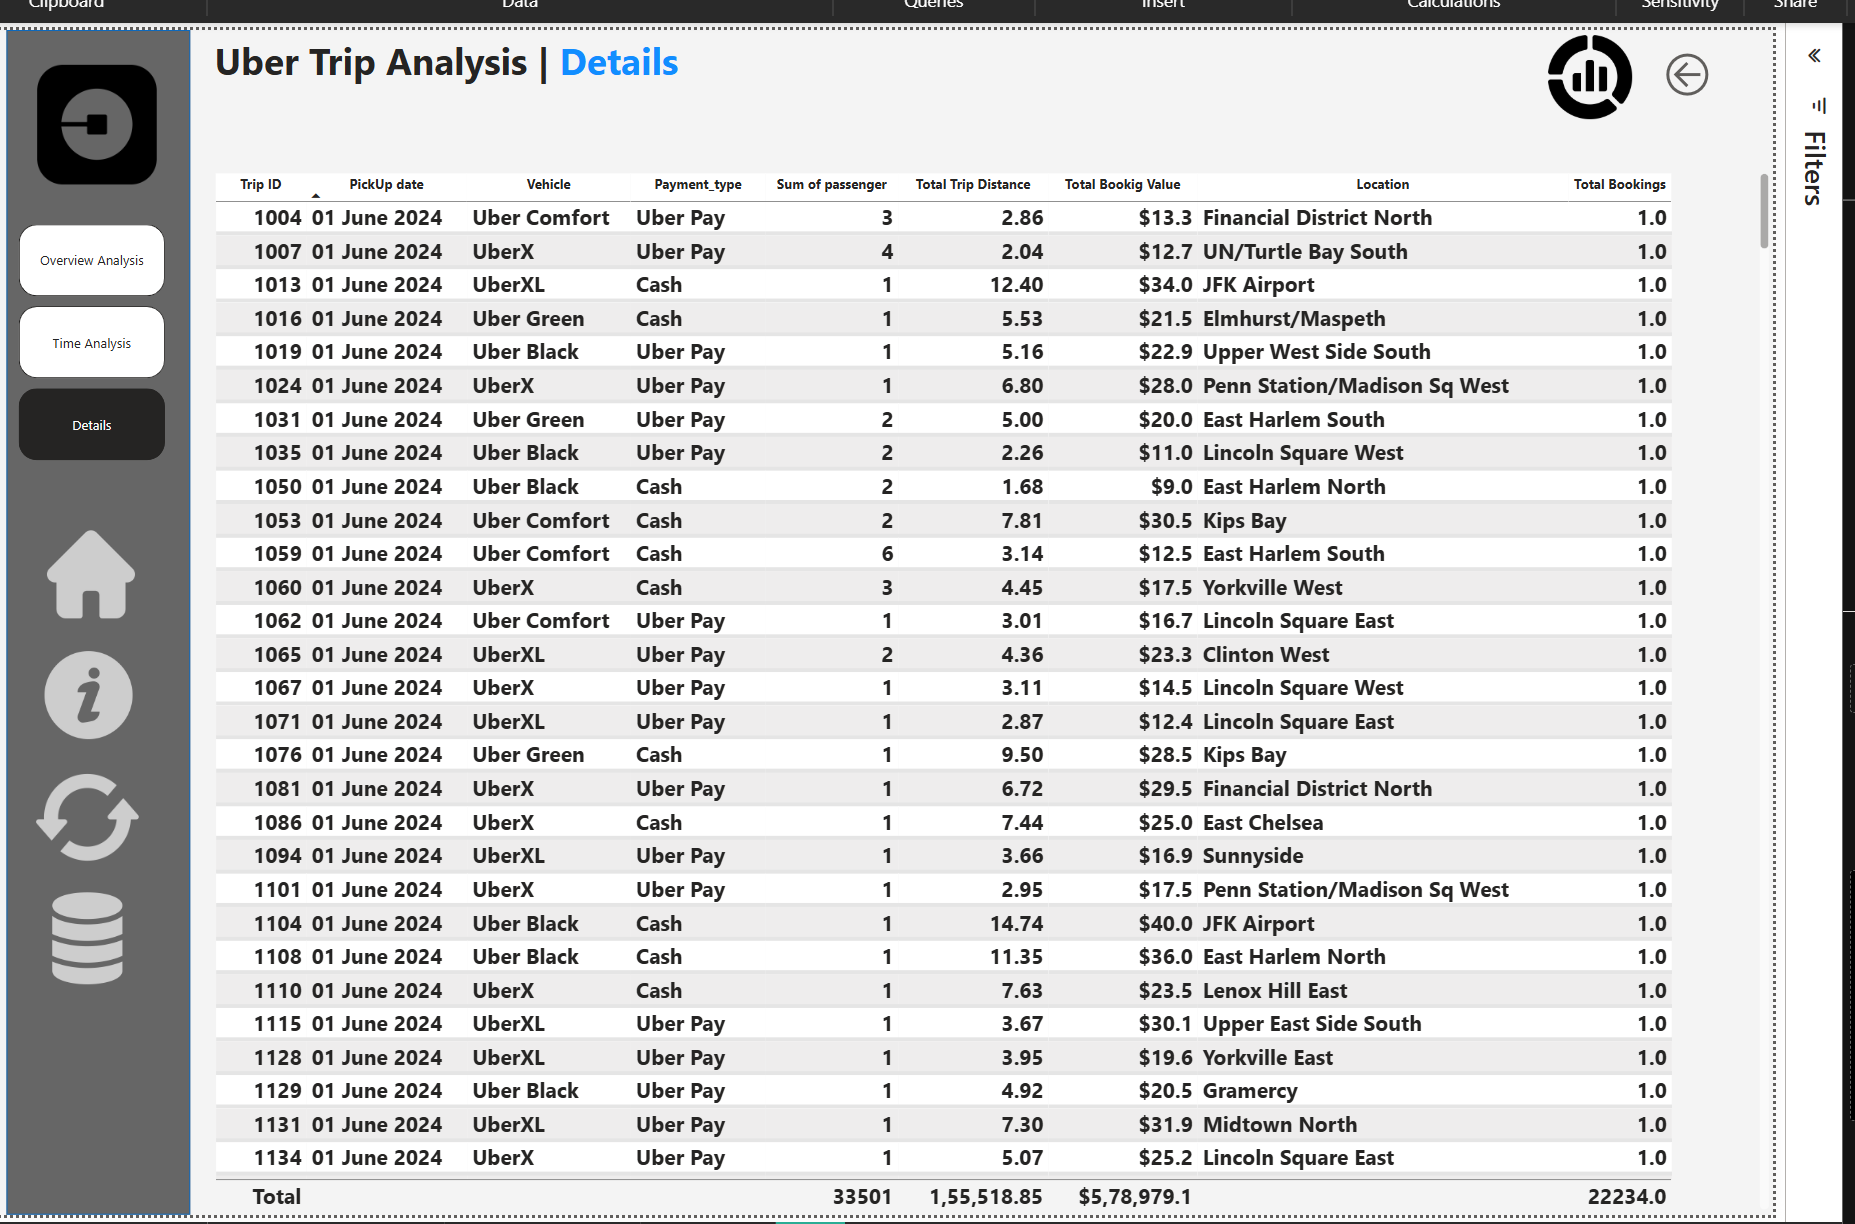

The dashboard page shown, as its layout file describes it:
{"tool":"powerbi","page":{"name":"Details","canvas":[1800,1200],"ordinal":2},"visuals":[{"type":"shape","box":[10.6,0,186,1199.5],"z":0},{"type":"textbox","box":[216.9,0,766.1,73.5],"z":1000},{"type":"tableEx","fields":{"Values":["Trip Details.Trip ID","Trip Details.PickUp date","Trip Details.Vehicle","Trip Details.Payment_type","Sum(Trip Details.passenger_count)","Trip Details.Total Trip Distance Mesure","Trip Details.Total Bookig Value","Location Table.Location","Trip Details.Total Bookings"]},"box":[216.2,140,1584,1059.5],"z":1001},{"type":"actionButton","box":[1685,17.7,62,54.9],"z":1002},{"type":"image","box":[1565.6,0,95.1,95.1],"z":1003},{"type":"image","box":[35.6,624.4,116.2,99.4],"z":1004},{"type":"image","box":[35.6,738.8,114.4,116.2],"z":1005},{"type":"image","box":[41.2,500.6,110.6,99.4],"z":1006},{"type":"image","box":[41.2,858.8,103.1,120],"z":1007},{"type":"image","box":[33.8,30,136.9,131.2],"z":1008},{"type":"pageNavigator","box":[22.5,196.9,148.1,241.9],"z":1009}]}

Visuals, with their boxes on the page's 1800x1200 design canvas (x1, y1, x2, y2). These are canvas units, not pixel positions in the 1855x1224 screenshot, which may show the page scaled, cropped or inside an application window:
shape: detection(11, 0, 197, 1200)
textbox: detection(217, 0, 983, 74)
tableEx - Trip Details.Trip ID x Trip Details.PickUp date: detection(216, 140, 1800, 1200)
actionButton: detection(1685, 18, 1747, 73)
image: detection(1566, 0, 1661, 95)
image: detection(36, 624, 152, 724)
image: detection(36, 739, 150, 855)
image: detection(41, 501, 152, 600)
image: detection(41, 859, 144, 979)
image: detection(34, 30, 171, 161)
pageNavigator: detection(22, 197, 171, 439)
